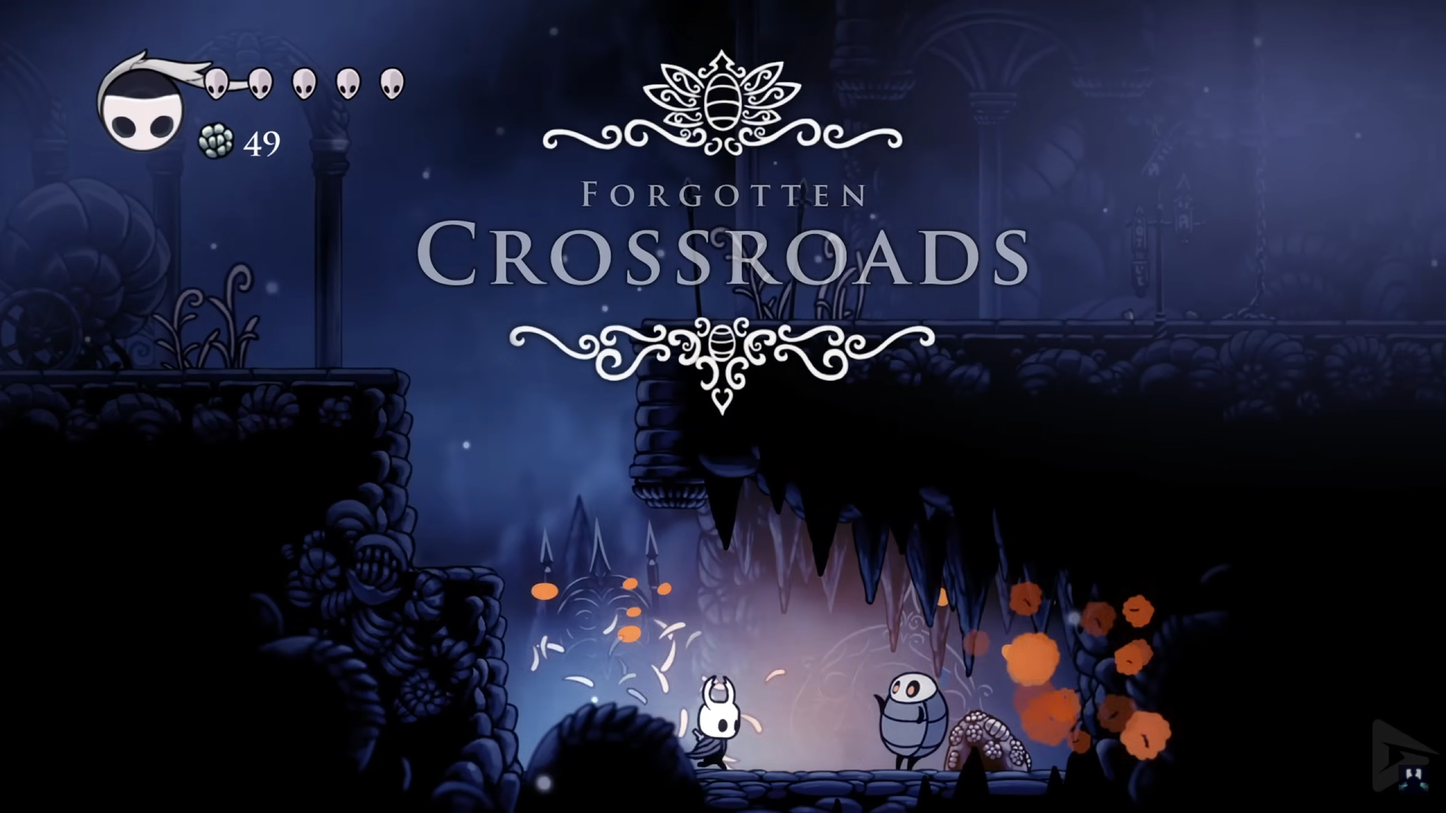HK: (682, 677, 748, 773)
